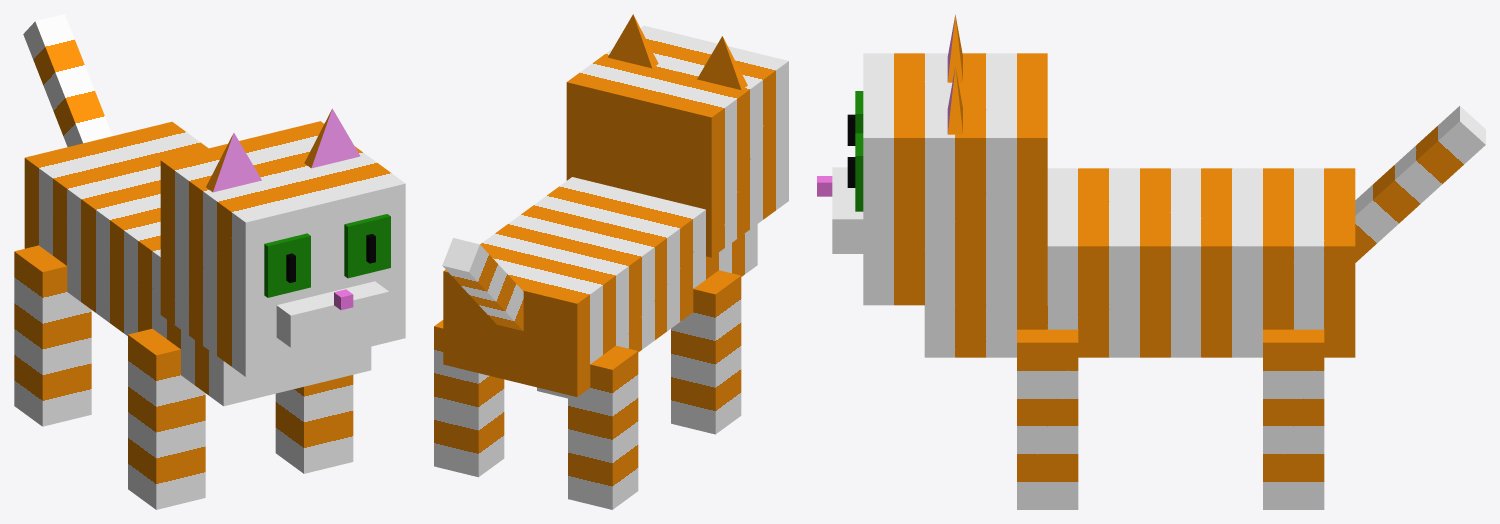
File: cat.dae
3 renders of one model, left to right at view 1: azimuth 30°, elevation 25°; view 2: azimuth 150°, elevation 25°; view 3: azimuth 270°, elevation 25°, orthographic. The views are drawn at different scales.
Parts seen in each view (by area): view 1: head, body, br-leg, fr-leg, fl-leg, tail, cube, l-eye (×2), l-ear, r-ear; view 2: body, head, br-leg, fr-leg, bl-leg, tail, r-ear, l-ear; view 3: body, head, fl-leg, bl-leg, tail, cube, l-ear, r-ear.
Part boxes in pixels (x1,y1,x2,y2): head: (160, 121, 405, 376); body: (24, 121, 371, 406); br-leg: (14, 245, 91, 426); fr-leg: (128, 328, 205, 509); fl-leg: (275, 375, 353, 473); tail: (23, 14, 112, 146); cube: (276, 281, 389, 347); l-eye (×2): (264, 214, 390, 297); l-ear: (304, 108, 360, 168); r-ear: (206, 133, 261, 192); body: (443, 177, 757, 396); head: (566, 25, 788, 257); br-leg: (568, 345, 638, 509); fr-leg: (671, 270, 741, 434); bl-leg: (434, 320, 504, 477); tail: (442, 238, 523, 330); r-ear: (697, 36, 747, 90); l-ear: (608, 14, 658, 68); body: (924, 168, 1355, 357); head: (863, 53, 1047, 305); fl-leg: (1017, 329, 1078, 509); bl-leg: (1263, 329, 1324, 509); tail: (1355, 106, 1485, 262); cube: (832, 167, 863, 253); l-ear: (947, 66, 962, 134); r-ear: (947, 14, 962, 82).
Size of the model in its own units: 0.5 by 0.9375 by 1.36.
Materials: 3 (3 with a texture image).
